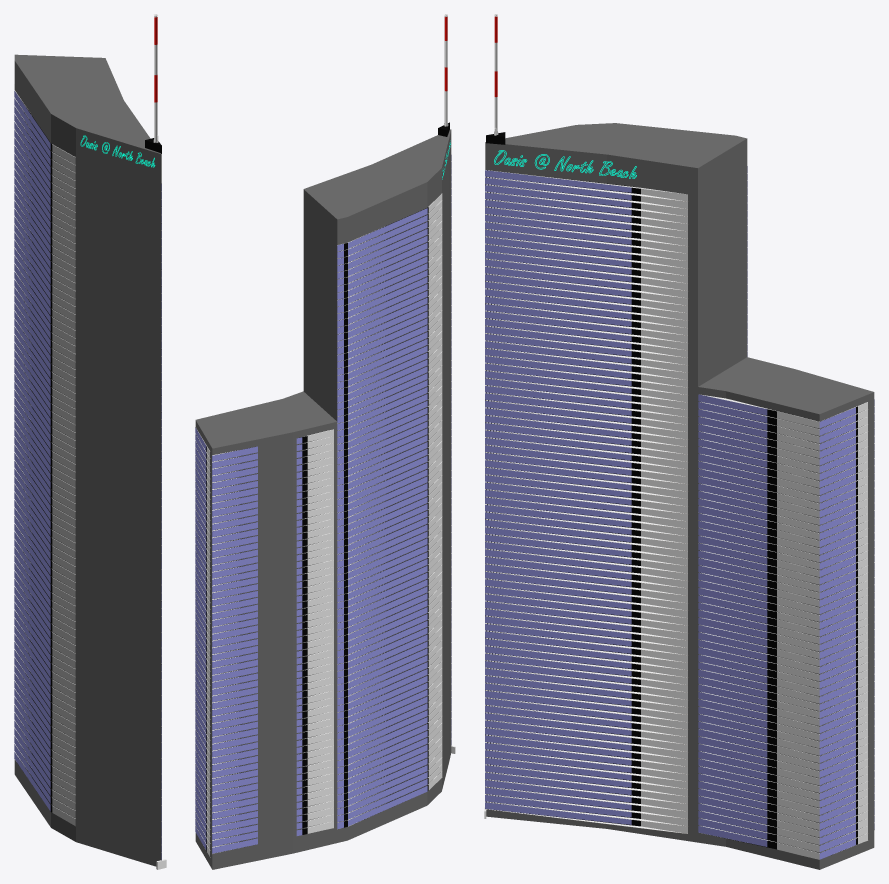
File: TheOasis@NorthBeach.fbx
3 renders of one model, left to right at view 1: azimuth 30°, elevation 25°; view 2: azimuth 150°, elevation 25°; view 3: azimuth 270°, elevation 25°, orthographic. The views are drawn at different scales.
Visible parts, largest first — view 1: TheOasis@NorthBeach, Window.001, Window, Spire, Text; view 2: Window.001, Window.003, TheOasis@NorthBeach, TheOasis@NorthBeach.002, Window.002, Window; view 3: Window, Window.002, TheOasis@NorthBeach, TheOasis@NorthBeach.002, Text.001.
Part boxes in pixels (box(x1,y1,x2,y2)): TheOasis@NorthBeach: box(14, 54, 161, 866); Window.001: box(14, 84, 75, 826); Window: box(161, 184, 161, 859); Spire: box(153, 14, 158, 142); Text: box(80, 135, 155, 167); Window.001: box(337, 193, 442, 829); Window.003: box(212, 429, 333, 853); TheOasis@NorthBeach: box(303, 129, 451, 842); TheOasis@NorthBeach.002: box(195, 391, 337, 869); Window.002: box(195, 427, 210, 857); Window: box(451, 155, 451, 745); Window: box(485, 170, 687, 833); Window.002: box(698, 394, 867, 859); TheOasis@NorthBeach: box(485, 123, 747, 842); TheOasis@NorthBeach.002: box(698, 357, 874, 869); Text.001: box(494, 150, 636, 178).
Size of the model in its own units: 4288 by 22002 by 9709.
